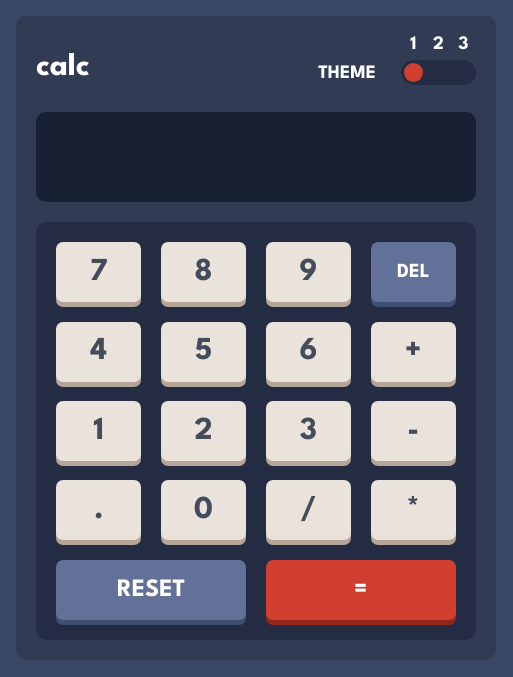
it: Basic operations › Should render a negative number
The image size is (513, 677).
Click the button "-" at (413, 431), box [370,401,456,461]
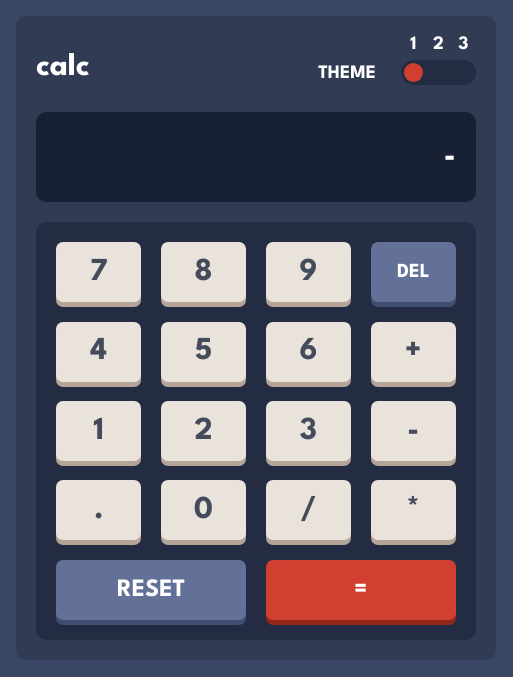
Click the button "7" at (99, 272), box [56,242,142,302]
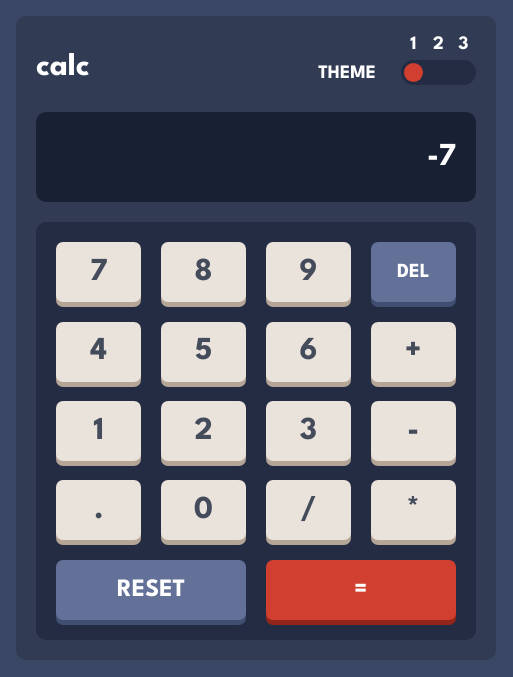
Now the field holds "-7", box [36,112,476,202]
